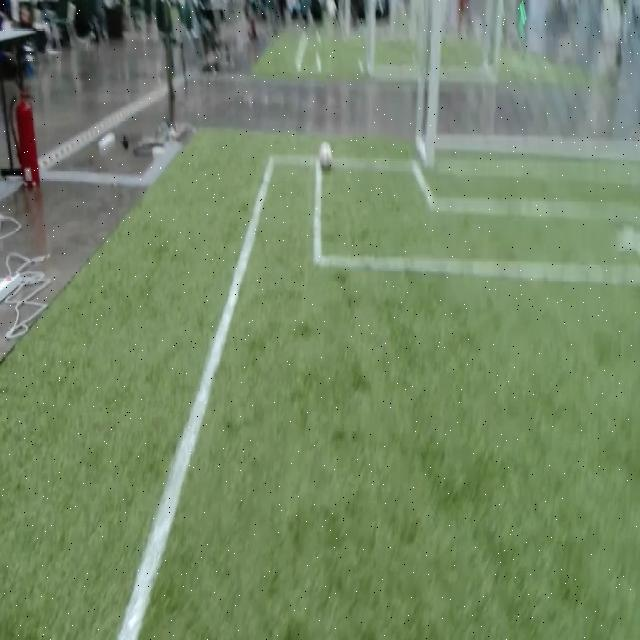ball: (318, 144, 333, 170)
goalpost: (423, 137, 437, 172)
